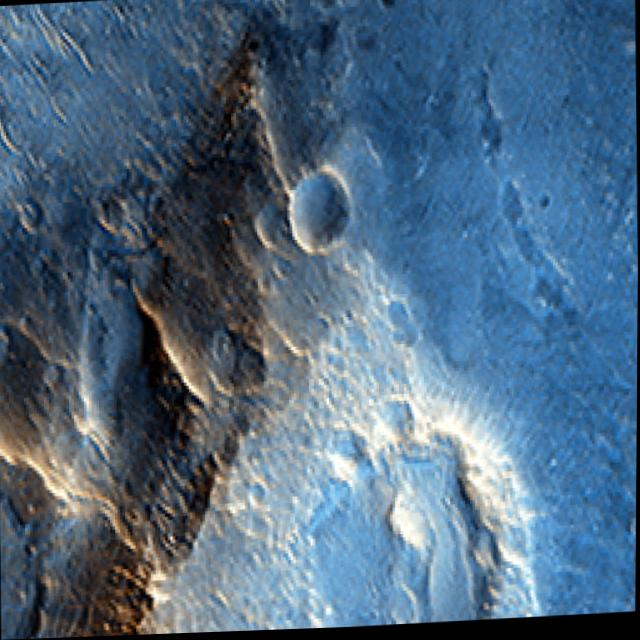Crater: (257, 391, 528, 632), (0, 376, 129, 640), (275, 149, 361, 269)
